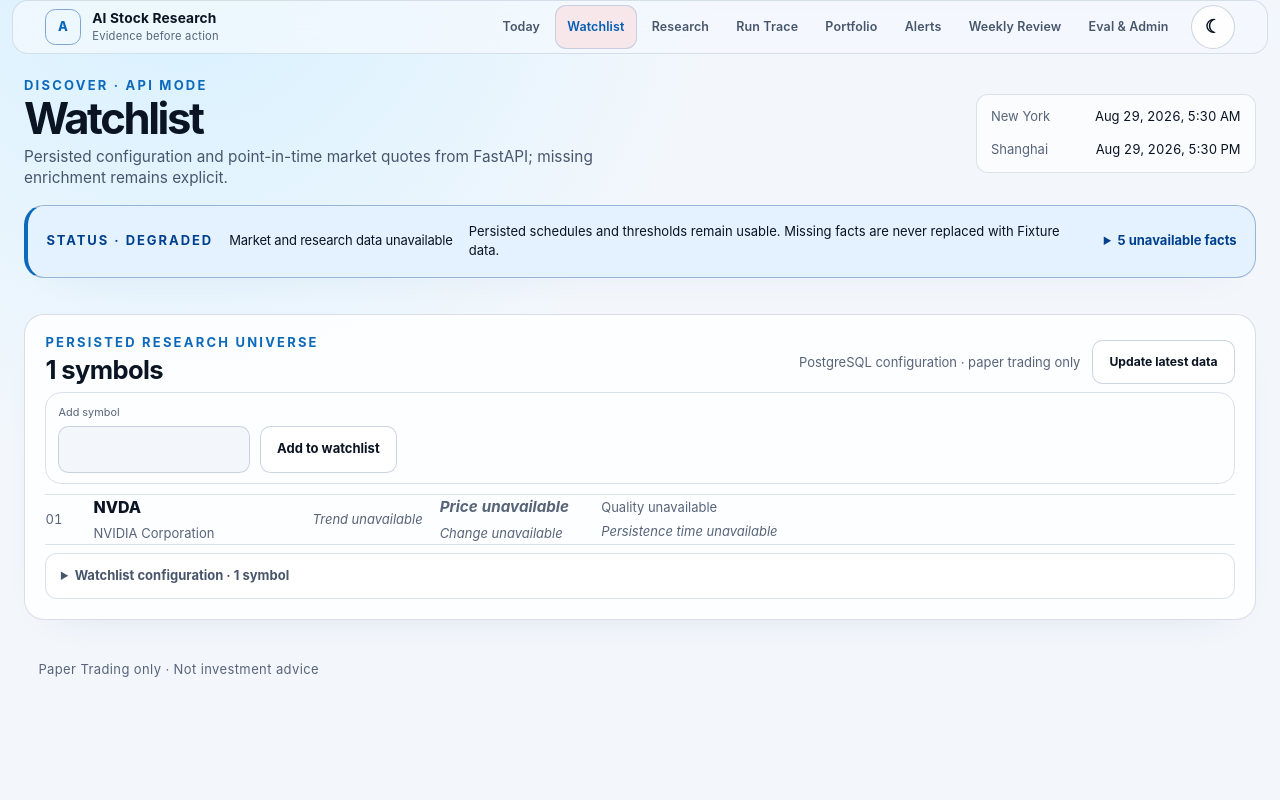
Scenario: Watchlist route data boundaries › announces request failure as an alert without replacing persisted prices
Click the button "Update latest data" at (1163, 362), box [1092, 340, 1234, 384]
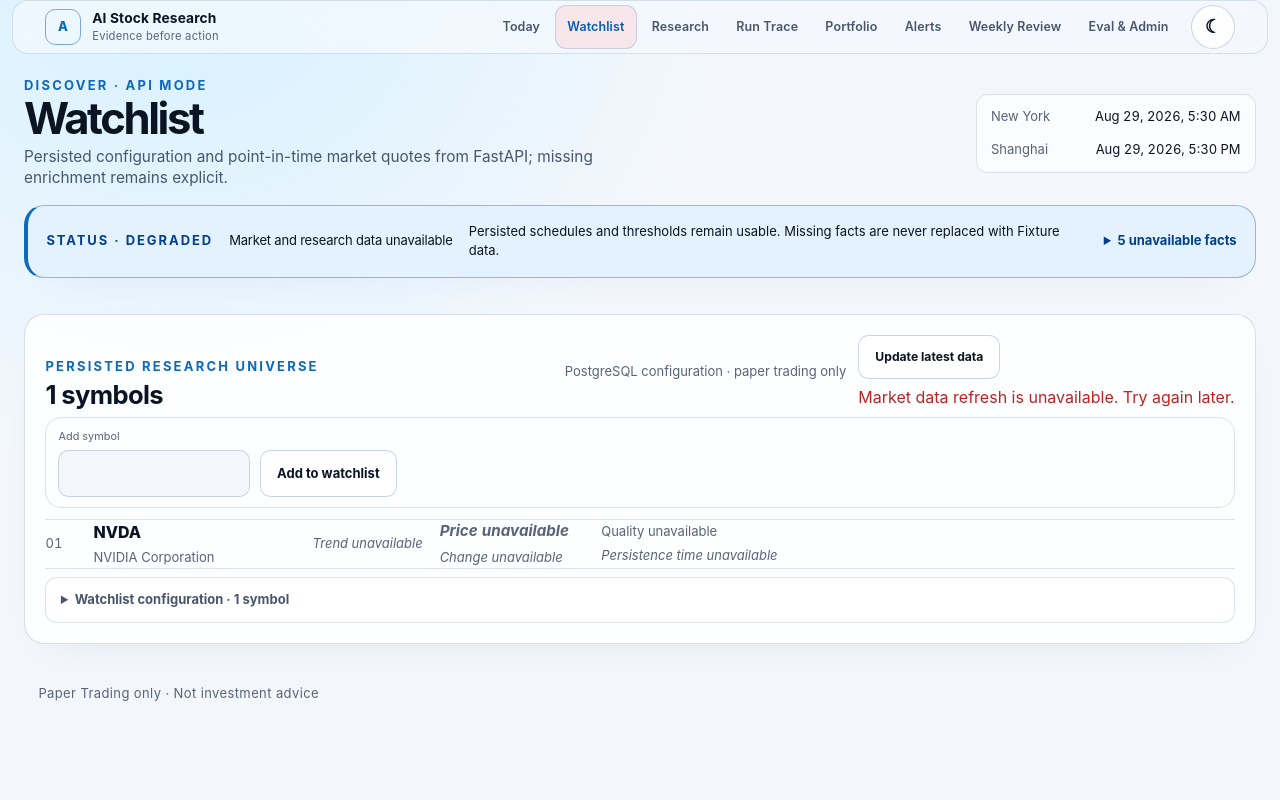
Expected: the text "Price unavailable" is shown, [440, 520, 589, 543]
Expected: the message "Market data refresh is unavailable. Try again later." is shown, [858, 385, 1234, 409]
